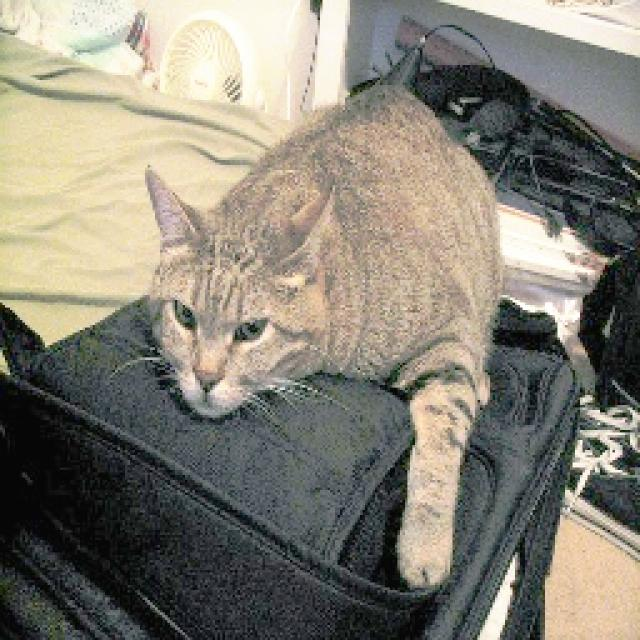cat: (138, 75, 504, 591)
